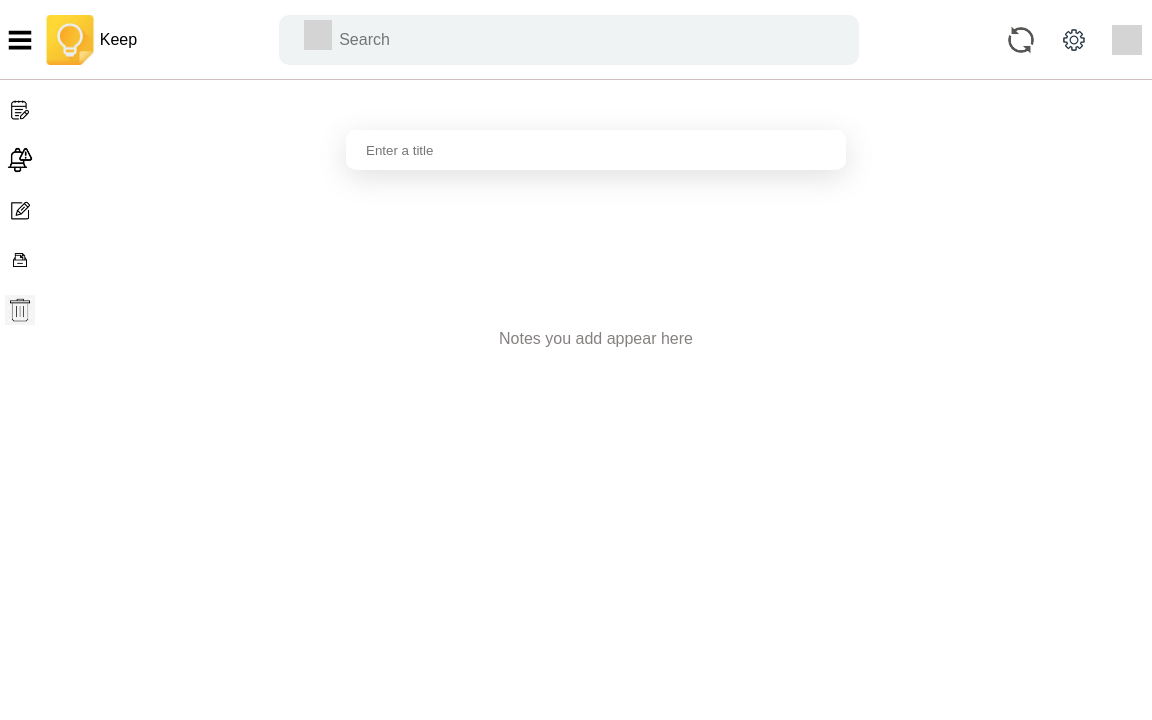
Test: renders ListBox after pressing Enter
In the field with placeholder "Enter a title": coordinates (596, 150) x1=346 y1=130 x2=846 y2=170, type "Sample Title"
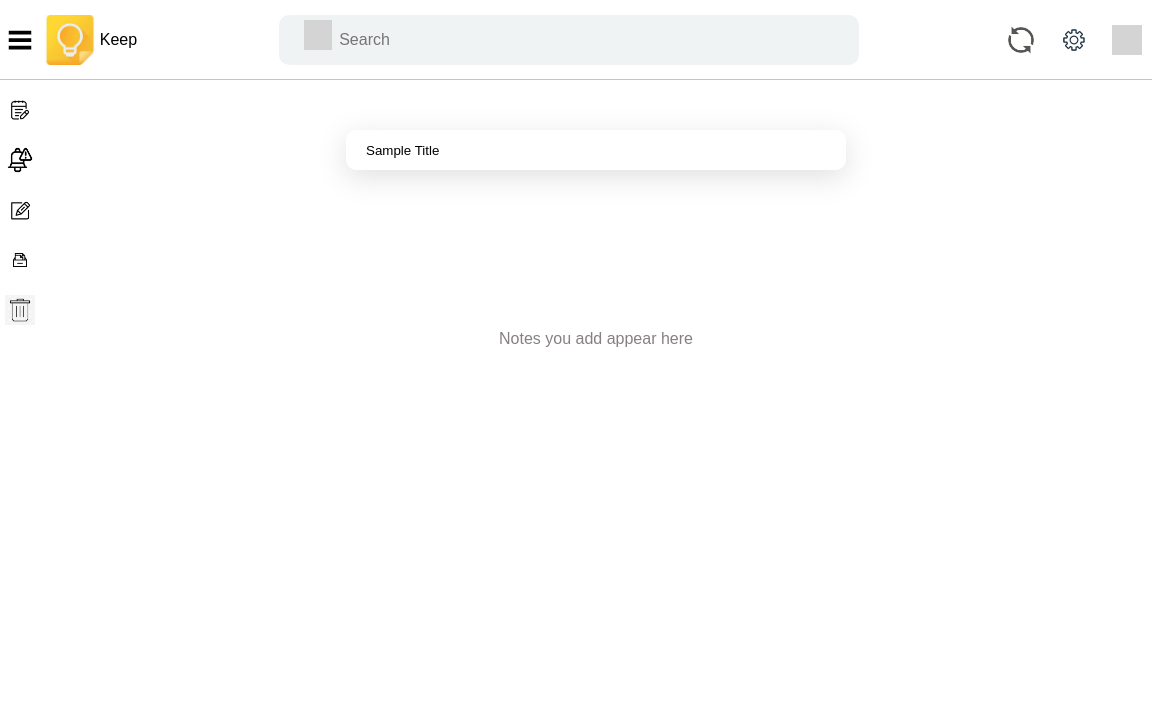
Press Enter in the field with placeholder "Enter a title", box x1=346 y1=130 x2=846 y2=170
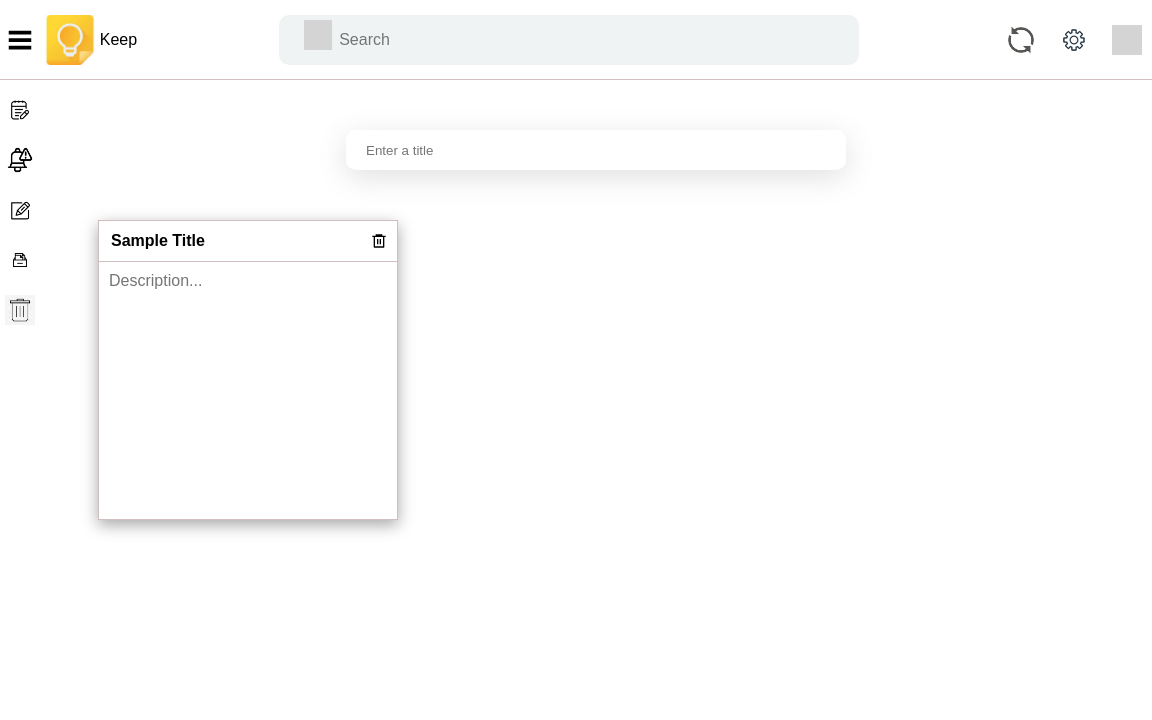
Expected: the field showing "Sample Title" is shown, x1=109 y1=221 x2=332 y2=261
